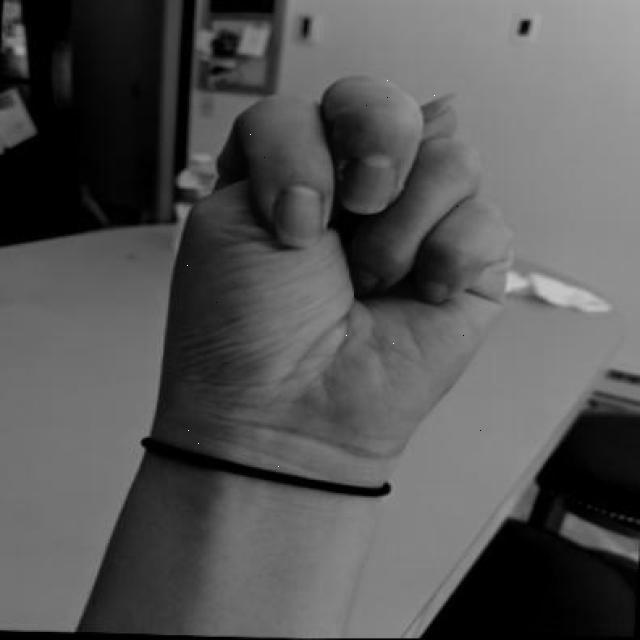N: (146, 60, 542, 473)
